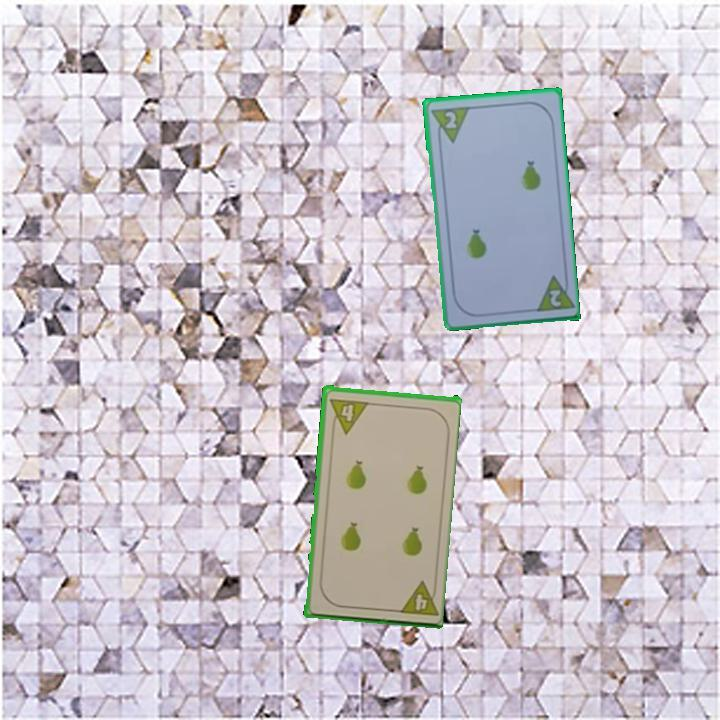2p: (427, 102, 472, 146), (546, 286, 564, 310)
4p: (394, 577, 440, 619), (326, 394, 370, 435)
